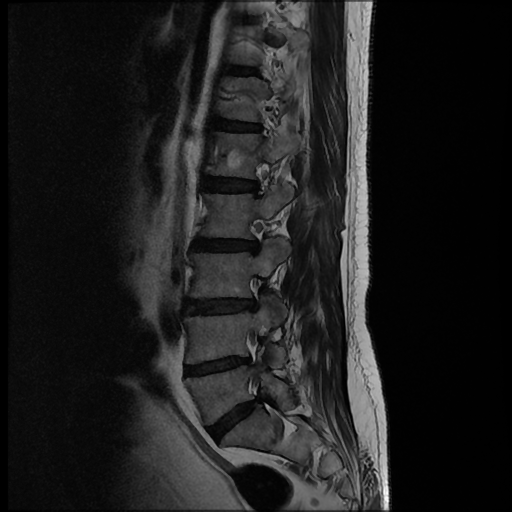RFS0: (233, 267, 275, 319), (230, 323, 270, 373), (236, 210, 274, 260), (239, 156, 278, 202)
